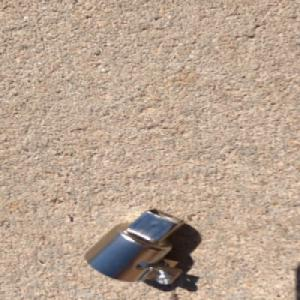MetalPart: (81, 208, 188, 285)
